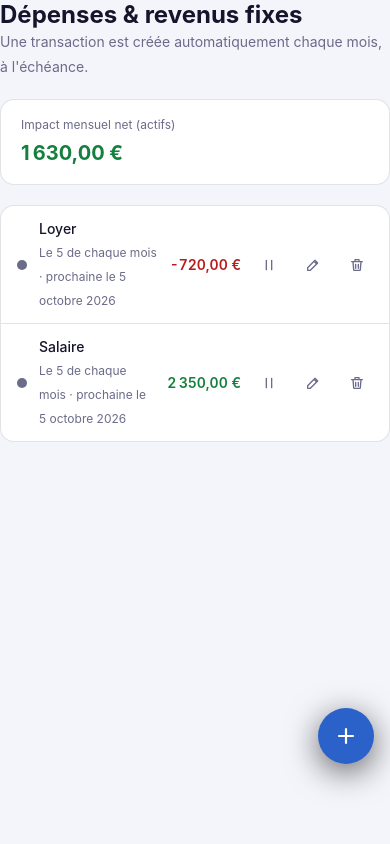
Scenario: RecurringPage — création › le bouton flottant ouvre aussi la modale de création
Click the button named "Ajouter une charge fixe".
click(346, 736)  # box 318,708 -> 374,764
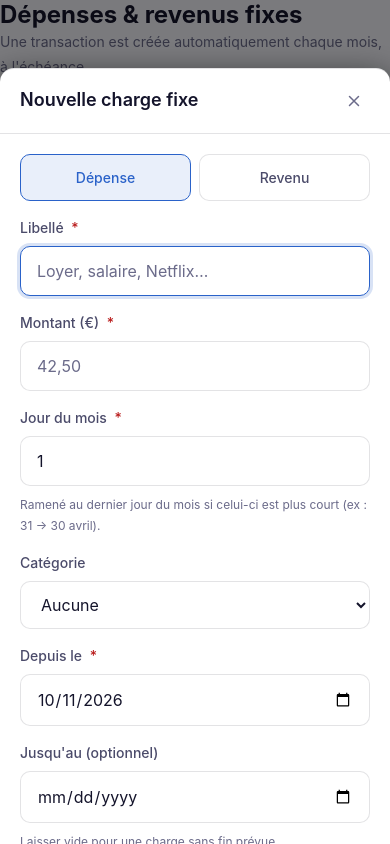
Expected: the dialog is shown
